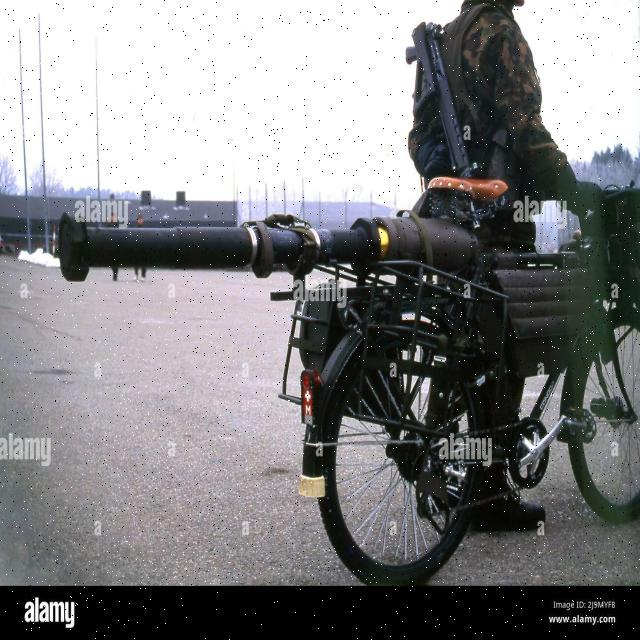bazooka: (55, 213, 395, 283)
